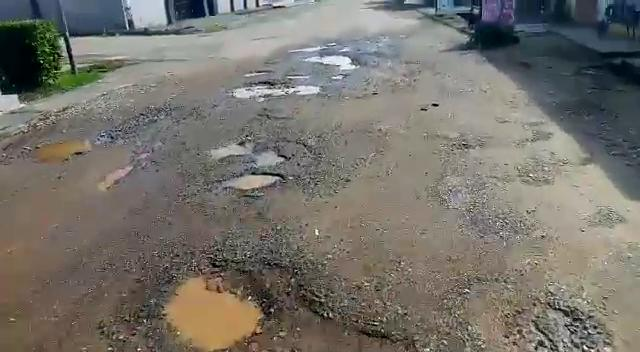pothole: (154, 268, 276, 351), (213, 139, 287, 167), (217, 169, 287, 193), (226, 79, 314, 98), (27, 141, 92, 164), (305, 54, 360, 68), (243, 68, 273, 75)
